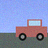vehicle: (16, 20, 47, 40)
